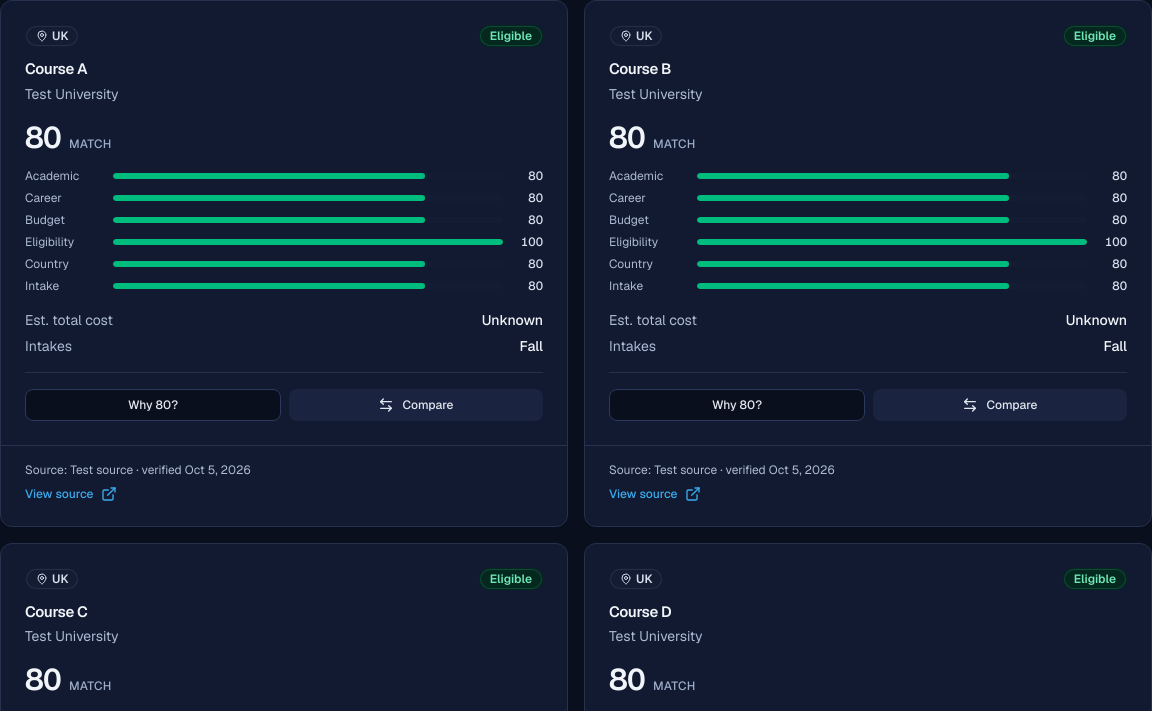
Test case: RecommendationList selection › selects and deselects a course
The image size is (1152, 711).
Click the button "Compare" below "Course A" at x=416, y=405, box [289,389,543,421]
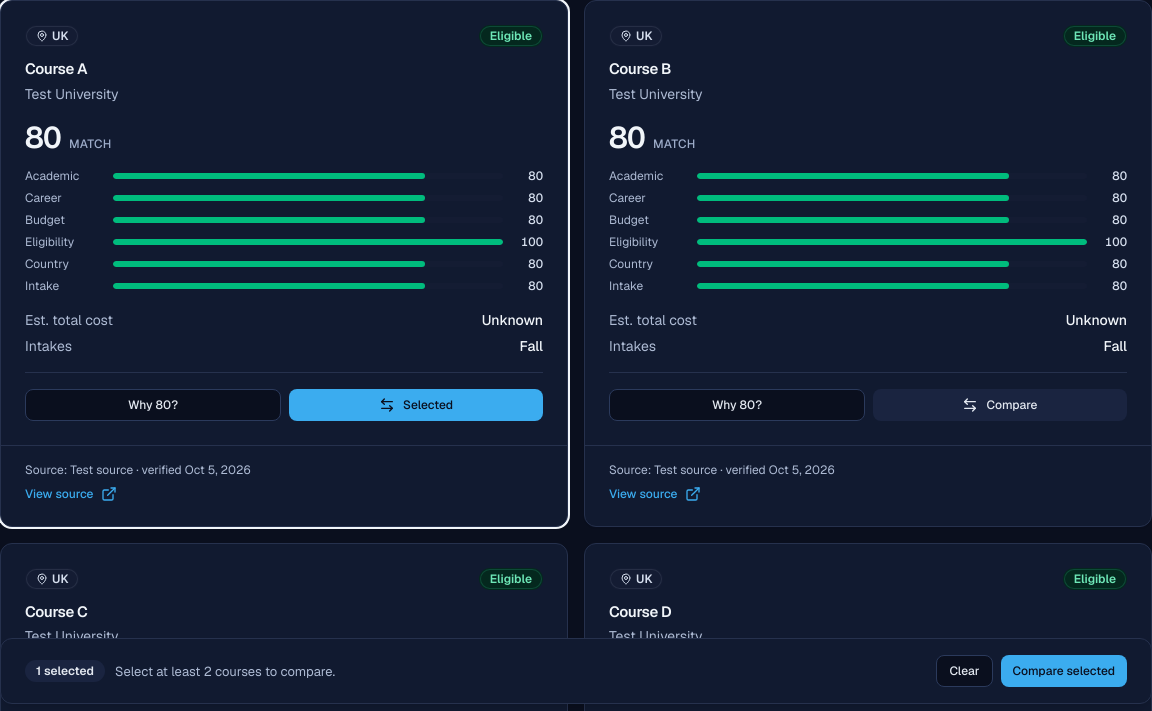
Expected: the text "1 selected" is shown, [25,660,105,682]
Click the button "Selected" at x=416, y=405, box [289,389,543,421]
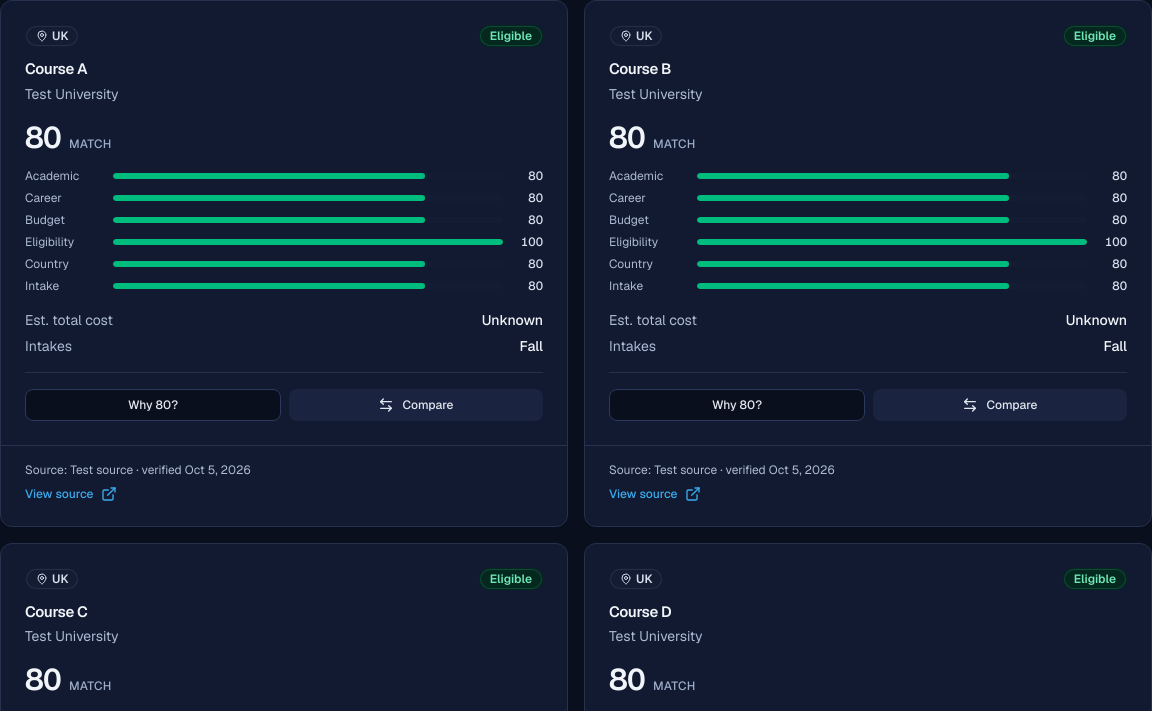
Expected: the text "1 selected" is gone
